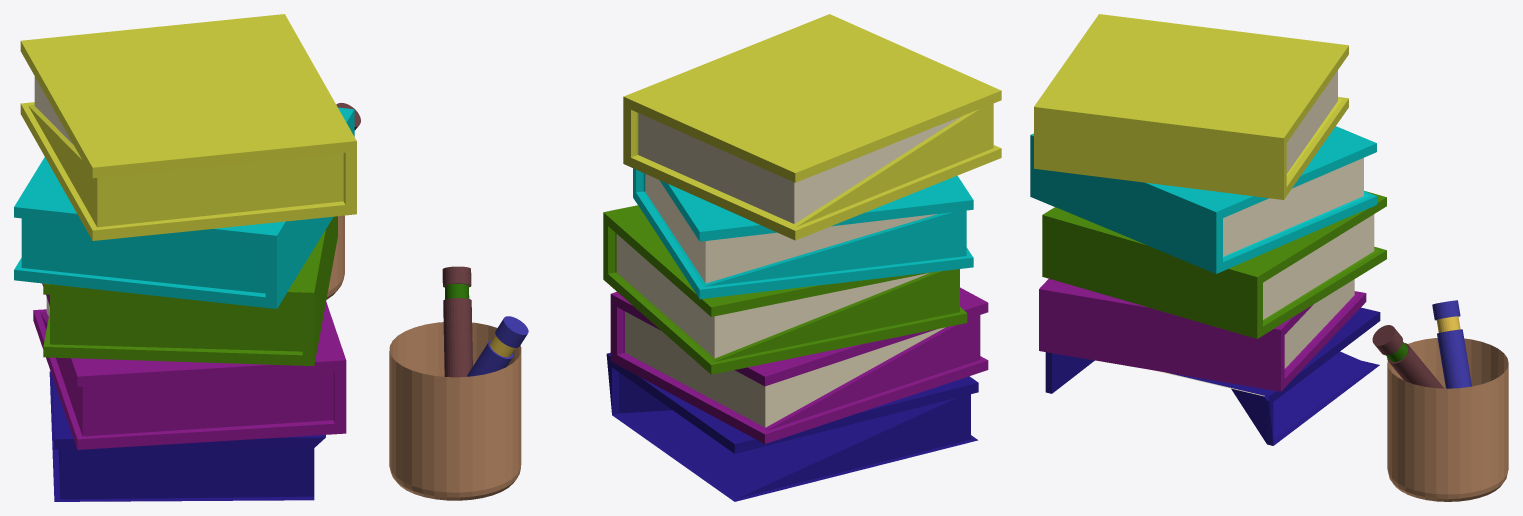
Rendered from casier_decor.glb.
The picture shows the model from 3 angles, left to right: view 1: azimuth 30°, elevation 25°; view 2: azimuth 150°, elevation 25°; view 3: azimuth 270°, elevation 25°; orthographic projection. The views are drawn at different scales.
Parts seen in each view (by area): view 1: model; view 2: model; view 3: model.
Part boxes in pixels (<box>): model: <box>14,14,360,501</box>; model: <box>389,14,1001,501</box>; model: <box>1030,14,1508,501</box>.
Bounding box in the file's own units: 2.98 × 2.17 × 3.09.
